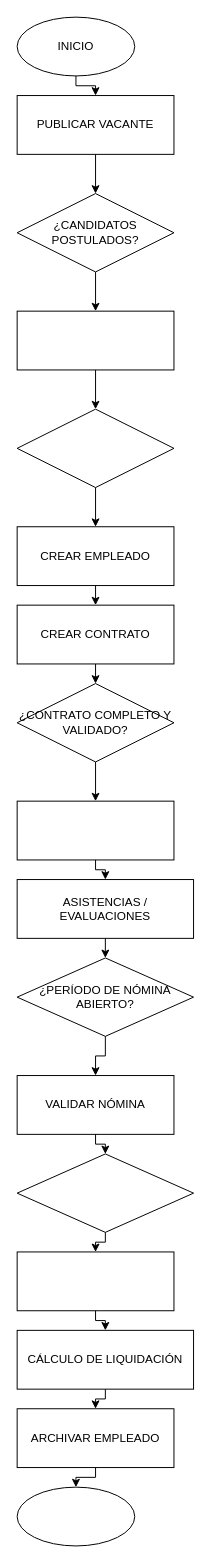
The diagram is 211 pixels wide and 1563 high, and some of its shapes have lost their labels. The box of each missing label's shape, as (x1, y1, x2, y2) in pixels:
CERRAR CONTRATO: (16, 1251, 174, 1311)
ENTREVISTAS Y PRUEBAS: (16, 310, 174, 370)
FIN: (16, 1486, 135, 1546)
PLAN DE ONBOARDING: (16, 800, 174, 860)
¿APROBACIÓN DE CANDIDATO?: (16, 408, 174, 488)
¿CAMBIO DE CARGO/CONTRATO?: (16, 1153, 194, 1232)
